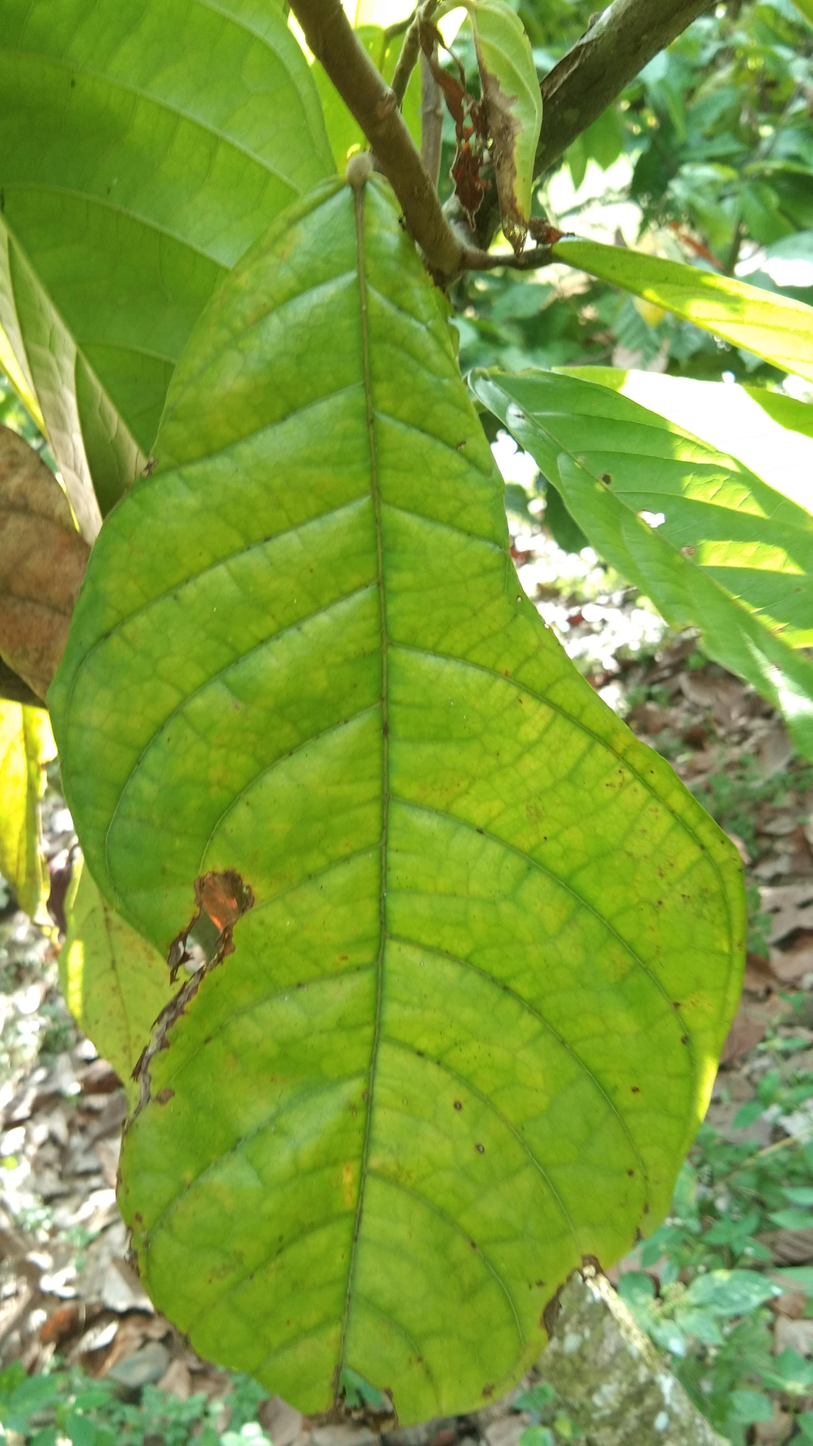deficiencia_potasio: (20, 140, 759, 1446)
